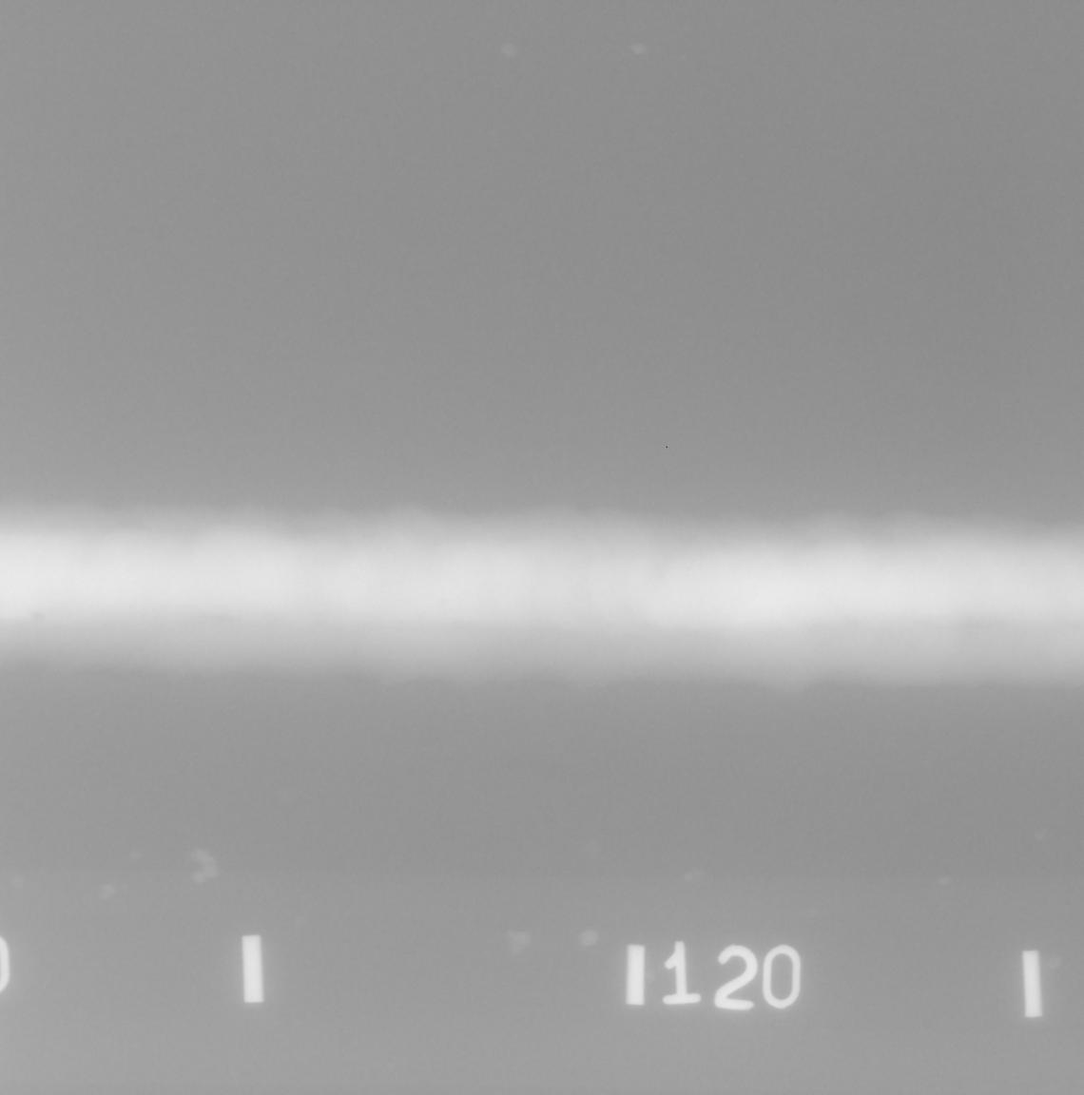Inclusion: (201, 613, 239, 622)
Pore/Porosity: (31, 613, 45, 619), (440, 598, 448, 604)
